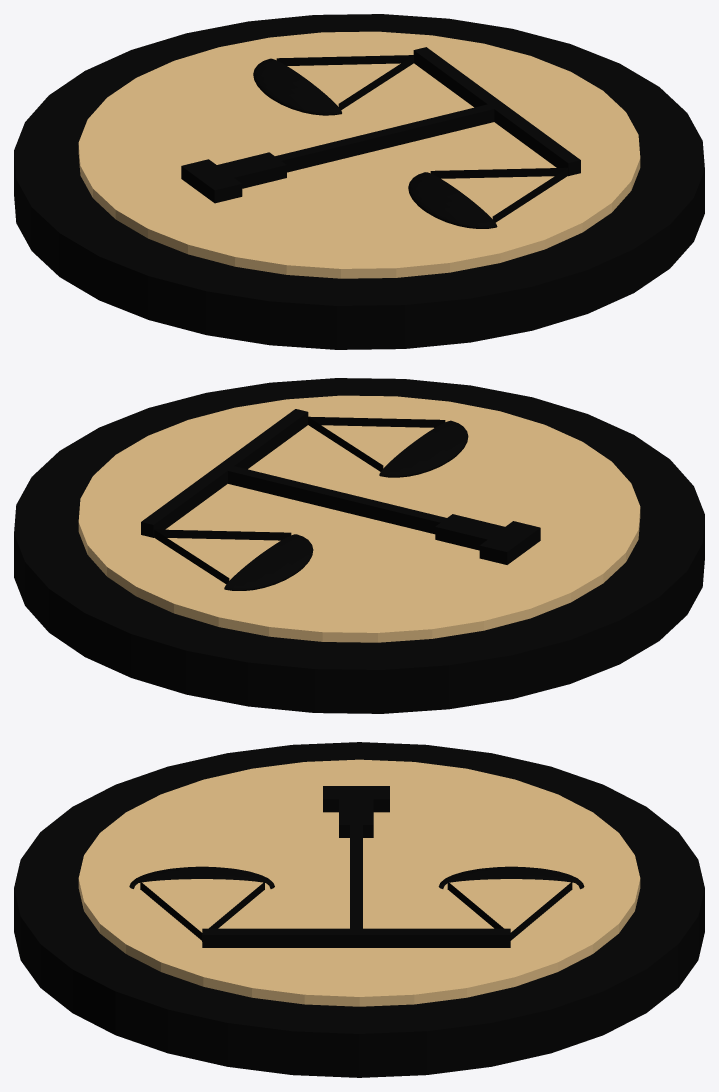
Rendered from Symbol(2).fbx.
The picture shows the model from 3 angles, top to bottom: view 1: azimuth 30°, elevation 25°; view 2: azimuth 150°, elevation 25°; view 3: azimuth 270°, elevation 25°; orthographic projection.
Parts seen in each view (by area): view 1: Circle.003, Cube.000; view 2: Circle.003, Cube.000; view 3: Circle.003, Cube.000.
Boxes of the visible parts, x1=… form: Circle.003: x1=14, y1=14, x2=704, y2=349; Cube.000: x1=181, y1=47, x2=580, y2=228; Circle.003: x1=14, y1=378, x2=704, y2=713; Cube.000: x1=141, y1=409, x2=540, y2=590; Circle.003: x1=14, y1=742, x2=704, y2=1077; Cube.000: x1=129, y1=786, x2=584, y2=947.
Size of the model in its own units: 265 by 28.16 by 265.
